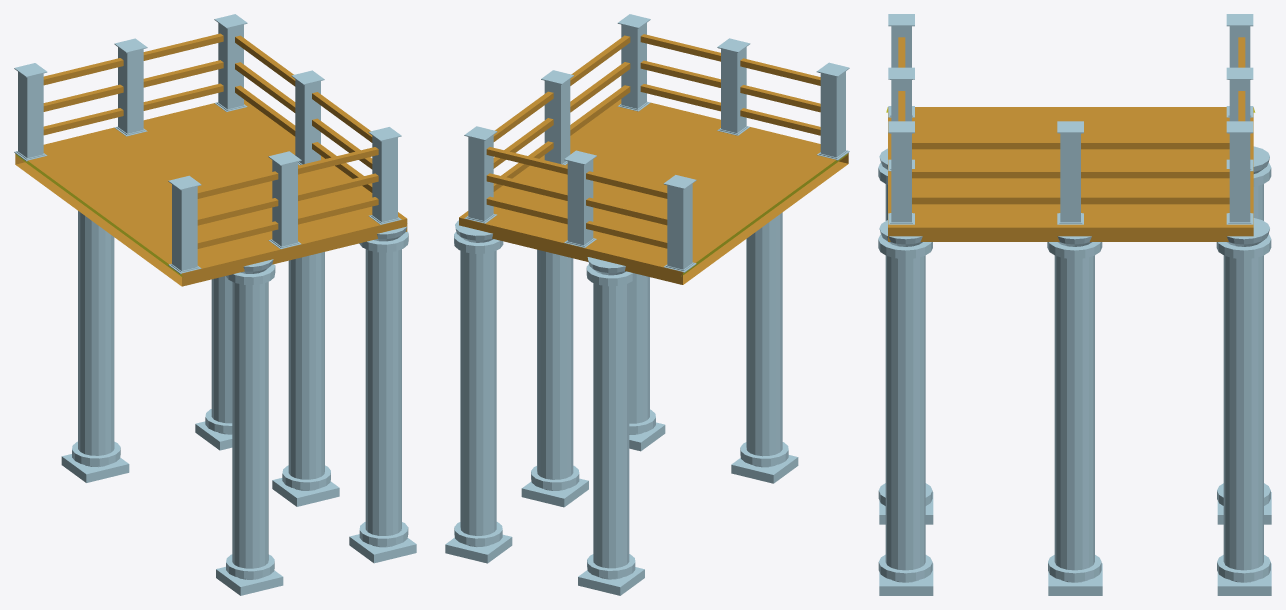
The model's file is balcony.fbx.
The picture shows the model from 3 angles, left to right: view 1: azimuth 30°, elevation 25°; view 2: azimuth 150°, elevation 25°; view 3: azimuth 270°, elevation 25°; orthographic projection. The views are drawn at different scales.
Parts seen in each view (by area): view 1: Cube.008, Cube.009, Circle.004, Circle, Circle.003, Circle.001, Circle.002, Cube.007, Cube.006, Cube.005, Cube.004, Cube.003 (+2 smaller); view 2: Cube.008, Cube.009, Circle.002, Circle.003, Circle.004, Circle.001, Circle, Cube.007, Cube.006, Cube.005, Cube.004, Cube.002 (+2 smaller); view 3: Cube.008, Circle.002, Circle, Circle.001, Cube.009, Cube.002, Cube.003, Cube.001, Circle.003, Cube.005, Cube.006, Cube.004 (+2 smaller).
Boxes of the visible parts, bbox=[...] form: Cube.008: bbox=[15, 99, 407, 286]; Cube.009: bbox=[43, 33, 378, 248]; Circle.004: bbox=[216, 259, 283, 595]; Circle: bbox=[349, 223, 416, 563]; Circle.003: bbox=[61, 211, 129, 482]; Circle.001: bbox=[272, 252, 339, 506]; Circle.002: bbox=[195, 276, 232, 450]; Cube.007: bbox=[168, 175, 201, 274]; Cube.006: bbox=[14, 63, 47, 161]; Cube.005: bbox=[114, 38, 147, 136]; Cube.004: bbox=[268, 151, 301, 249]; Cube.003: bbox=[368, 127, 401, 224]; Cube.008: bbox=[459, 99, 848, 284]; Cube.009: bbox=[486, 34, 820, 248]; Circle.002: bbox=[445, 220, 512, 563]; Circle.003: bbox=[578, 257, 644, 595]; Circle.004: bbox=[731, 212, 798, 483]; Circle.001: bbox=[521, 249, 588, 507]; Circle: bbox=[629, 274, 665, 451]; Cube.007: bbox=[816, 62, 849, 160]; Cube.006: bbox=[663, 175, 696, 272]; Cube.005: bbox=[564, 150, 596, 247]; Cube.004: bbox=[717, 38, 750, 135]; Cube.002: bbox=[464, 126, 497, 223]; Cube.008: bbox=[886, 107, 1255, 241]; Circle.002: bbox=[1216, 218, 1271, 595]; Circle: bbox=[878, 220, 933, 595]; Circle.001: bbox=[1047, 236, 1102, 595]; Cube.009: bbox=[898, 37, 1245, 204]; Cube.002: bbox=[1226, 121, 1253, 224]; Cube.003: bbox=[888, 121, 914, 224]; Cube.001: bbox=[1057, 121, 1083, 224]; Circle.003: bbox=[1217, 146, 1271, 524]; Cube.005: bbox=[1226, 67, 1253, 171]; Cube.006: bbox=[1226, 14, 1253, 117]; Cube.004: bbox=[888, 67, 914, 171].
Bounding box in the file's own units: 175 × 299 × 233.
